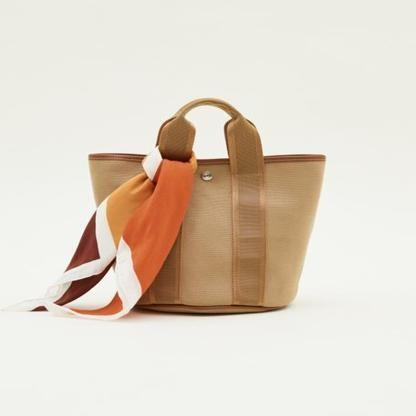not trash: (16, 98, 331, 316)
